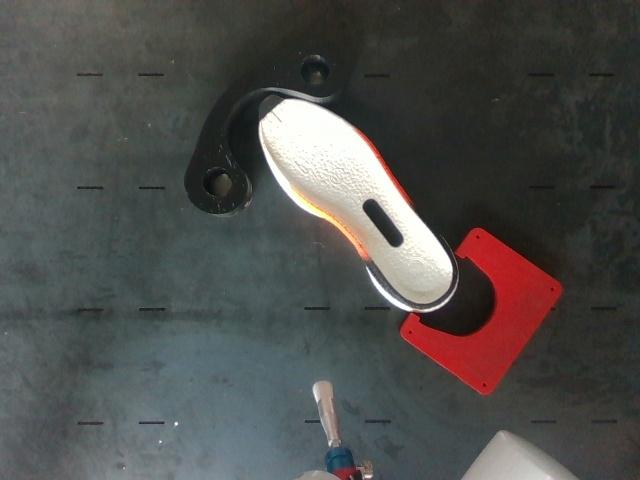shoes: (260, 97, 456, 309)
